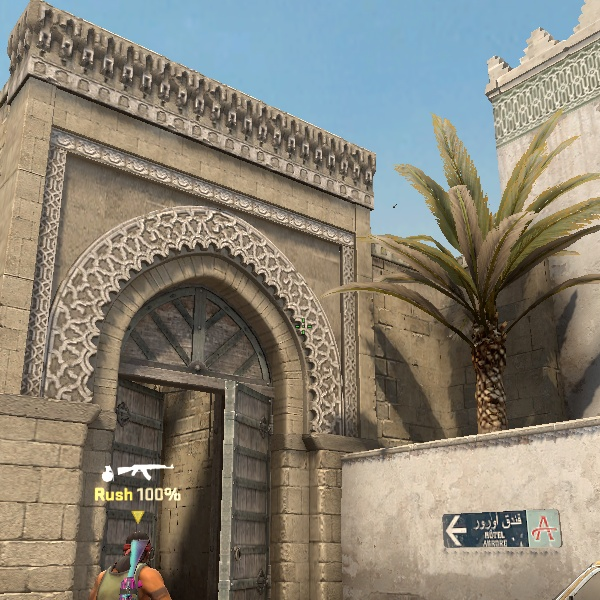t_body: (90, 530, 174, 593)
t_head: (120, 527, 153, 563)
